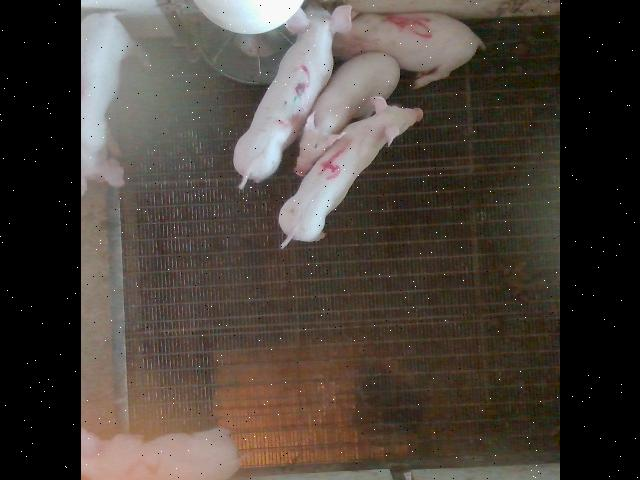pig-1: (81, 11, 131, 194)
pig-2: (82, 429, 239, 480)
pig-3: (233, 0, 351, 189)
pig-4: (278, 98, 421, 248)
pig-5: (332, 14, 484, 89)
